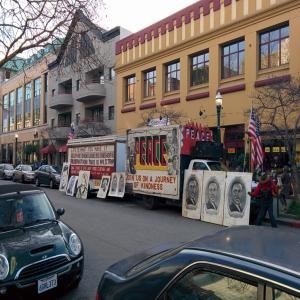Vehicle-registration-plate: (38, 272, 59, 295)
